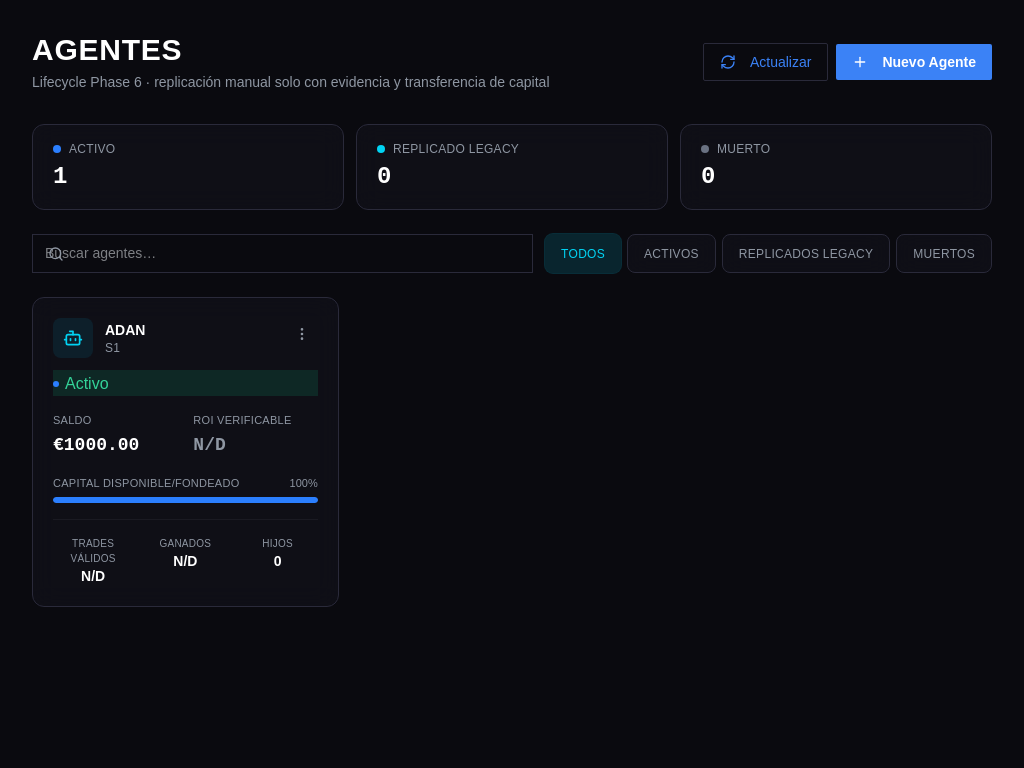
Test: AgentsPage Phase 6 evolution actions › offers manual evidence-gated replication and delegates to backend
Later steps or results of the test are not shown.
Expected: the heading "ADAN" is shown, [105,320,146,340]
Click the button named "Opciones del agente": {"x": 302, "y": 334} [286,318,318,350]
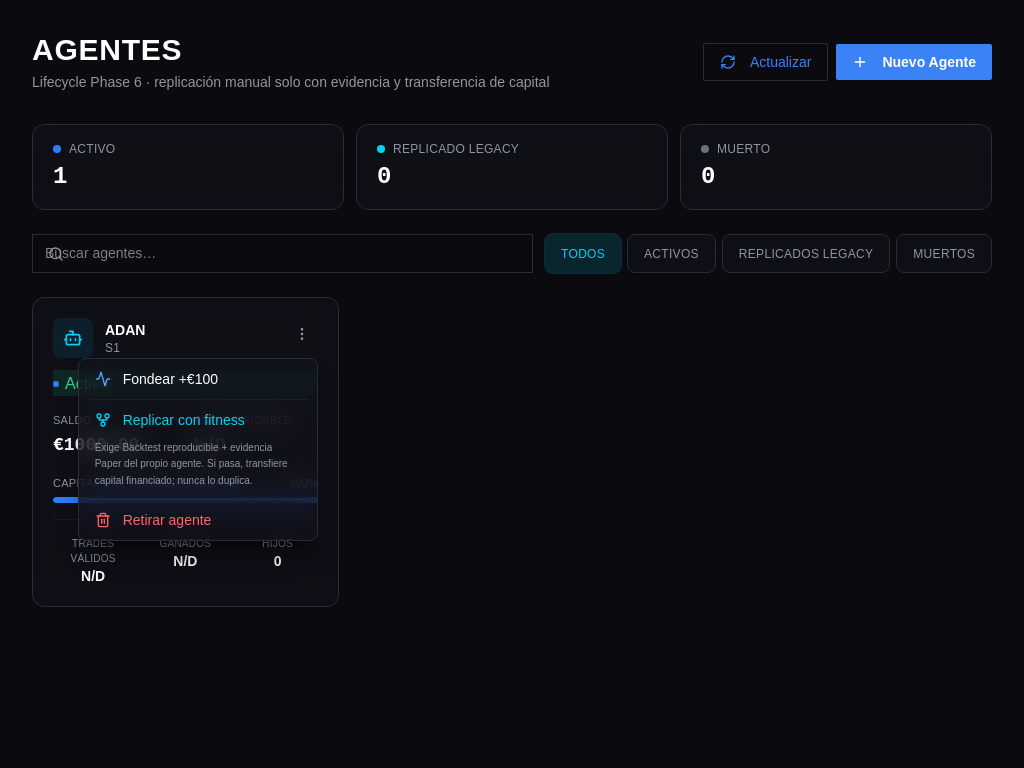
Expected: the text "Exige Backtest reproducible" is shown, [95,442,288,486]
